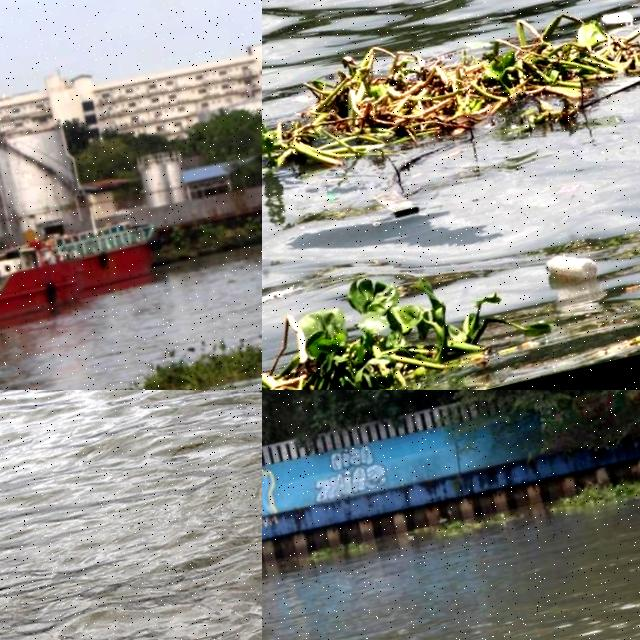water-hyacinth: (263, 1, 640, 193), (263, 247, 552, 391), (86, 309, 263, 391), (556, 461, 640, 518), (434, 506, 515, 545)
